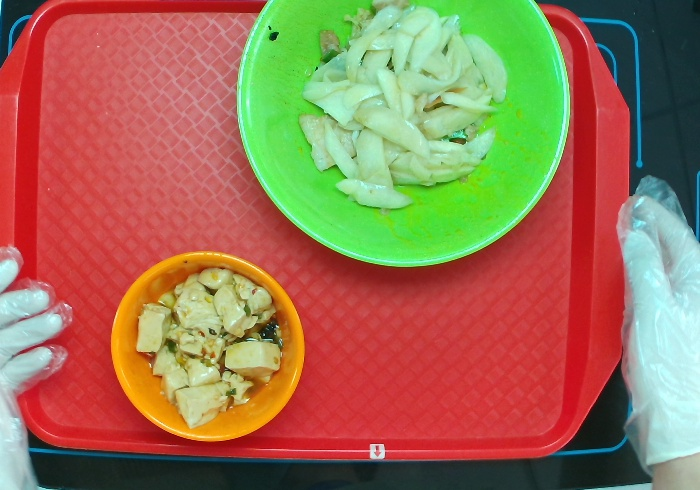YKMZ-Ju_Se_Yuan_Wan: (108, 247, 308, 446)
YKMZ-Lv_Se_Tang_Wan: (231, 1, 574, 276)
